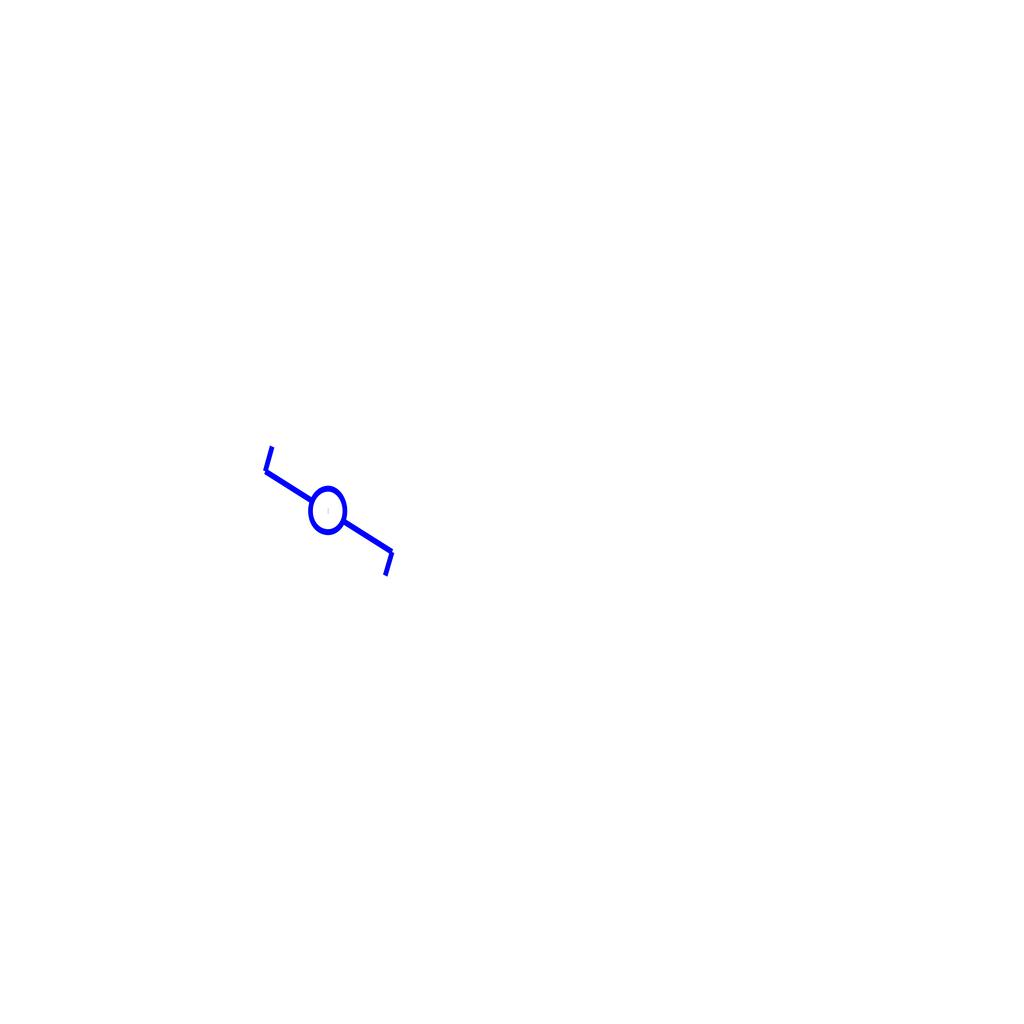Wechselschalter: (258, 424, 402, 581)
